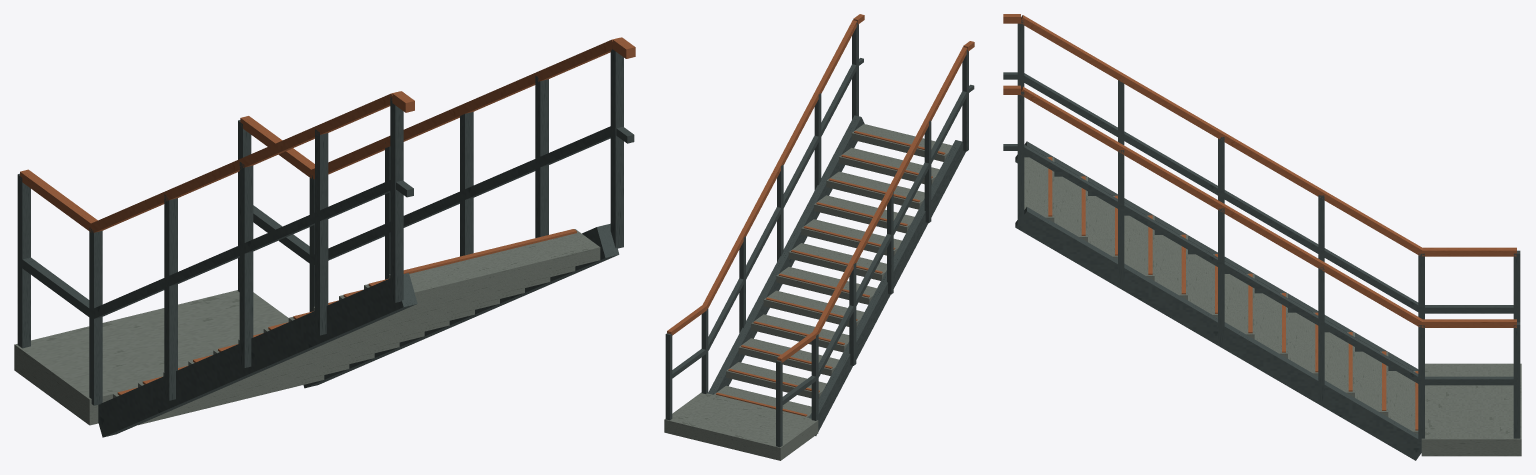
The model's file is Staircase.fbx.
The picture shows the model from 3 angles, left to right: view 1: azimuth 30°, elevation 25°; view 2: azimuth 150°, elevation 25°; view 3: azimuth 270°, elevation 25°; orthographic projection. The views are drawn at different scales.
Visible parts, largest first — view 1: Staircase; view 2: Staircase; view 3: Staircase.
Boxes of the visible parts, x1,y1,x2,y2 form: Staircase: (14,37,635,437); Staircase: (664,14,974,460); Staircase: (1003,14,1521,460).
Size of the model in its own units: 150 by 347 by 435.
